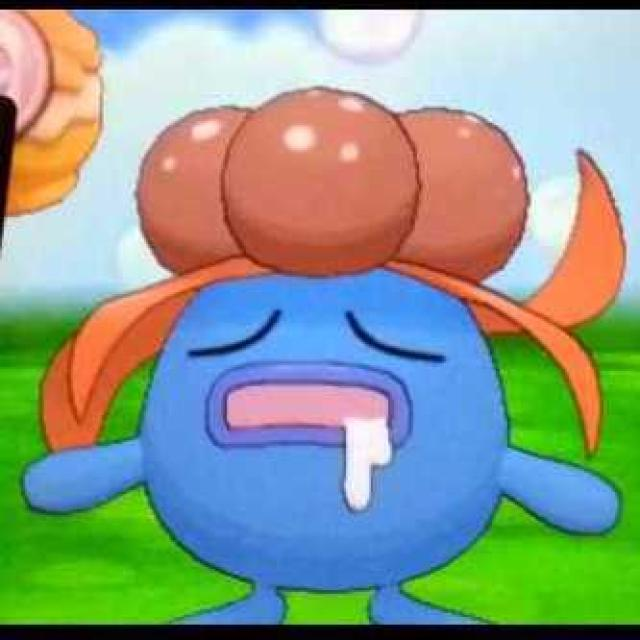Gloom: (137, 87, 535, 623)
